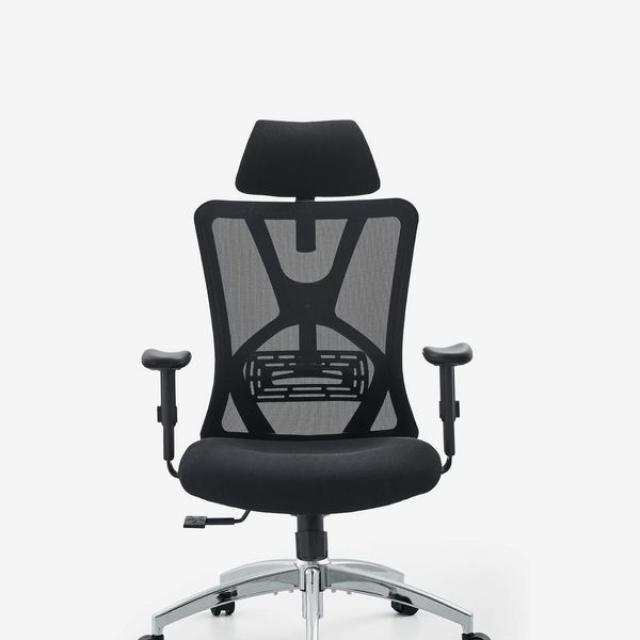obstacle: (115, 69, 572, 640)
